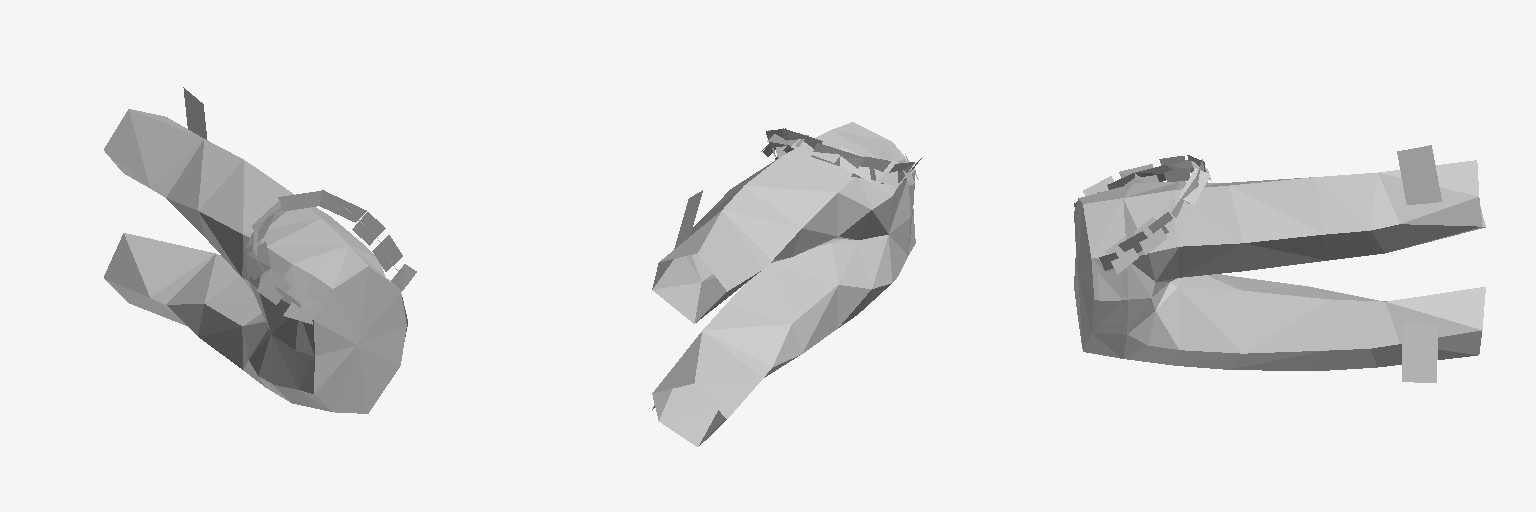
3 views of the same model, side by side, from view 1: azimuth 30°, elevation 25°; view 2: azimuth 150°, elevation 25°; view 3: azimuth 270°, elevation 25° (orthographic).
Parts seen in each view (by area): view 1: rg_downbody_005; view 2: rg_downbody_005; view 3: rg_downbody_005.
Part boxes in pixels (x1,y1,x2,y2): rg_downbody_005: (104, 87, 416, 413); rg_downbody_005: (652, 122, 921, 446); rg_downbody_005: (1074, 145, 1485, 382).
Size of the model in its own units: 27.06 by 41.01 by 68.04.